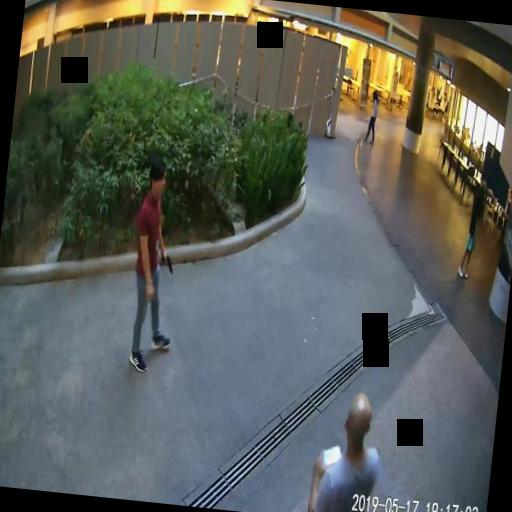Handgun: (159, 252, 173, 273)
